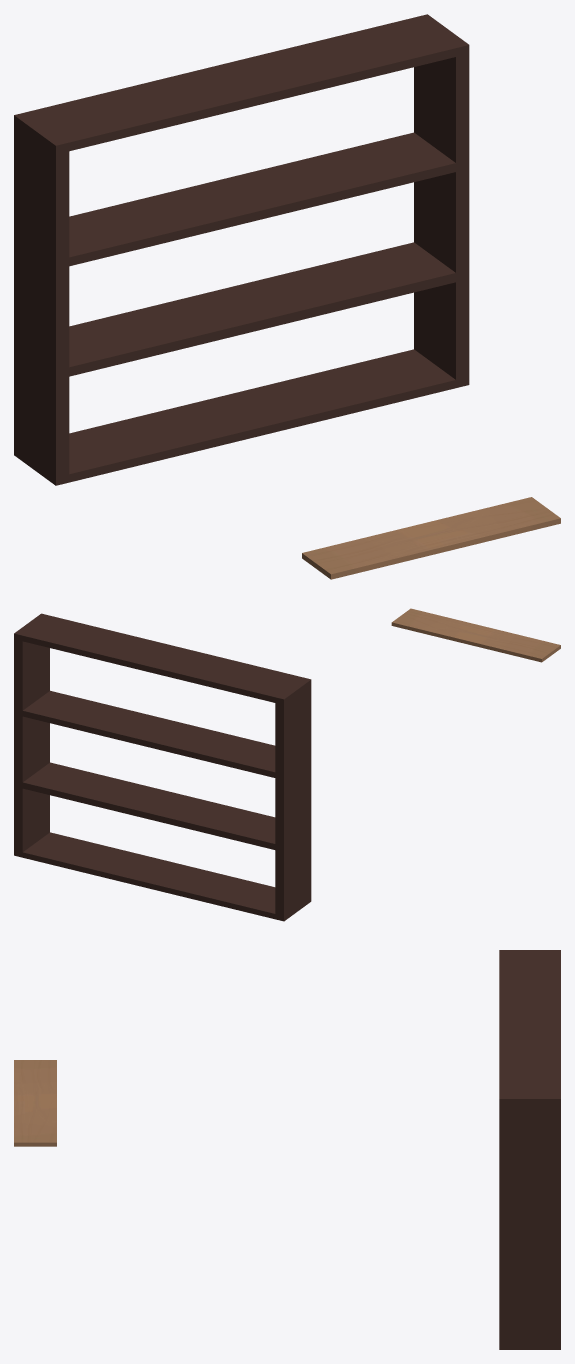
Rendered from ShelfnCloset_Final.fbx.
3 renders of one model, top to bottom at view 1: azimuth 30°, elevation 25°; view 2: azimuth 150°, elevation 25°; view 3: azimuth 270°, elevation 25°, orthographic. The views are drawn at different scales.
Parts seen in each view (by area): view 1: StorageNoBack.008, Cube.031; view 2: StorageNoBack.008, Cube.031; view 3: StorageNoBack.008, Cube.031.
Boxes of the visible parts, x1,y1,x2,y2 form: StorageNoBack.008: (14, 14, 469, 485); Cube.031: (302, 497, 560, 579); StorageNoBack.008: (14, 613, 311, 921); Cube.031: (391, 608, 560, 662); StorageNoBack.008: (499, 950, 560, 1349); Cube.031: (14, 1060, 56, 1146).
Bounding box in the file's own units: 303 × 211 × 416.
